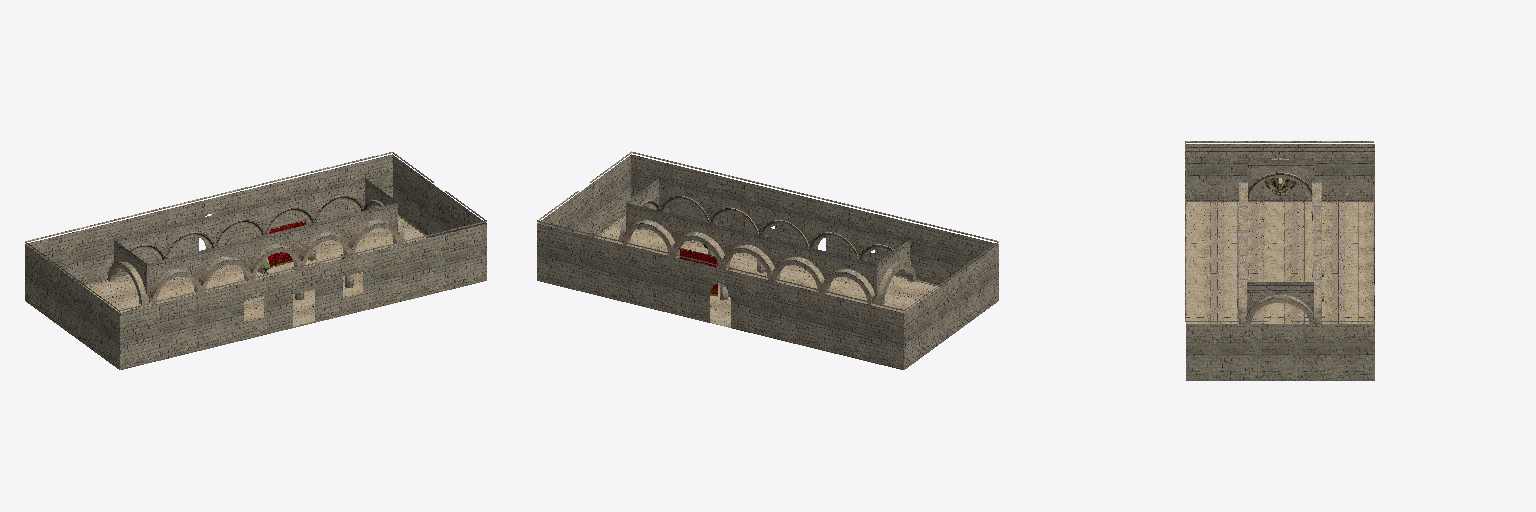
3 views of the same model, side by side, from view 1: azimuth 30°, elevation 25°; view 2: azimuth 150°, elevation 25°; view 3: azimuth 270°, elevation 25° (orthographic).
Visible parts, largest first — view 1: sponza_69, inner_walls, Floor, Bottom_floor_upper_arches, sponza_75; view 2: sponza_69, inner_walls, Bottom_floor_upper_arches, Floor, sponza_75; view 3: sponza_69, Floor, Bottom_floor_upper_arches, inner_walls, sponza_75.
Part boxes in pixels (bbox=[...]): sponza_69: bbox=[25, 154, 486, 368]; inner_walls: bbox=[114, 178, 397, 297]; Floor: bbox=[85, 217, 426, 326]; Bottom_floor_upper_arches: bbox=[107, 196, 404, 304]; sponza_75: bbox=[25, 152, 486, 311]; sponza_69: bbox=[537, 154, 998, 369]; inner_walls: bbox=[626, 178, 909, 297]; Bottom_floor_upper_arches: bbox=[619, 196, 915, 304]; Floor: bbox=[597, 217, 938, 327]; sponza_75: bbox=[537, 151, 998, 310]; sponza_69: bbox=[1186, 144, 1374, 380]; Floor: bbox=[1186, 202, 1374, 323]; Bottom_floor_upper_arches: bbox=[1238, 172, 1321, 323]; inner_walls: bbox=[1247, 160, 1313, 314]; sponza_75: bbox=[1185, 141, 1373, 321].
Bounding box in the file's own units: 137 × 24.95 × 60.98.
14 materials, 14 textured.